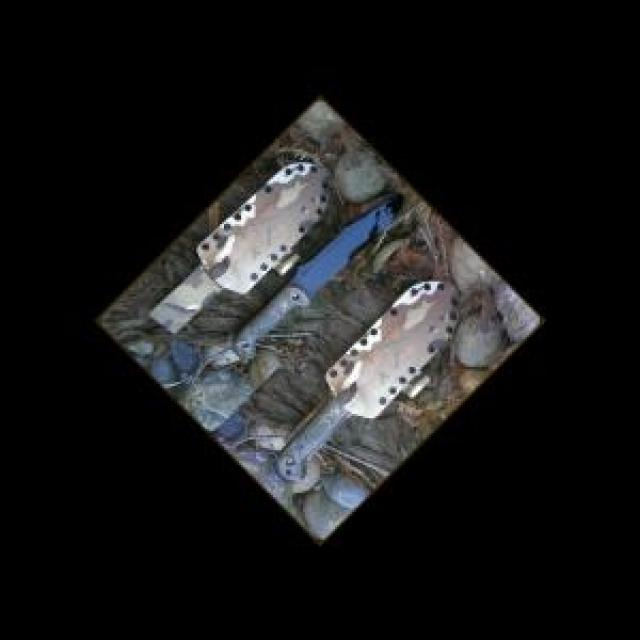knife: (230, 192, 415, 364)
